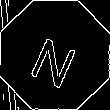N_NE: (26, 24, 84, 86)
